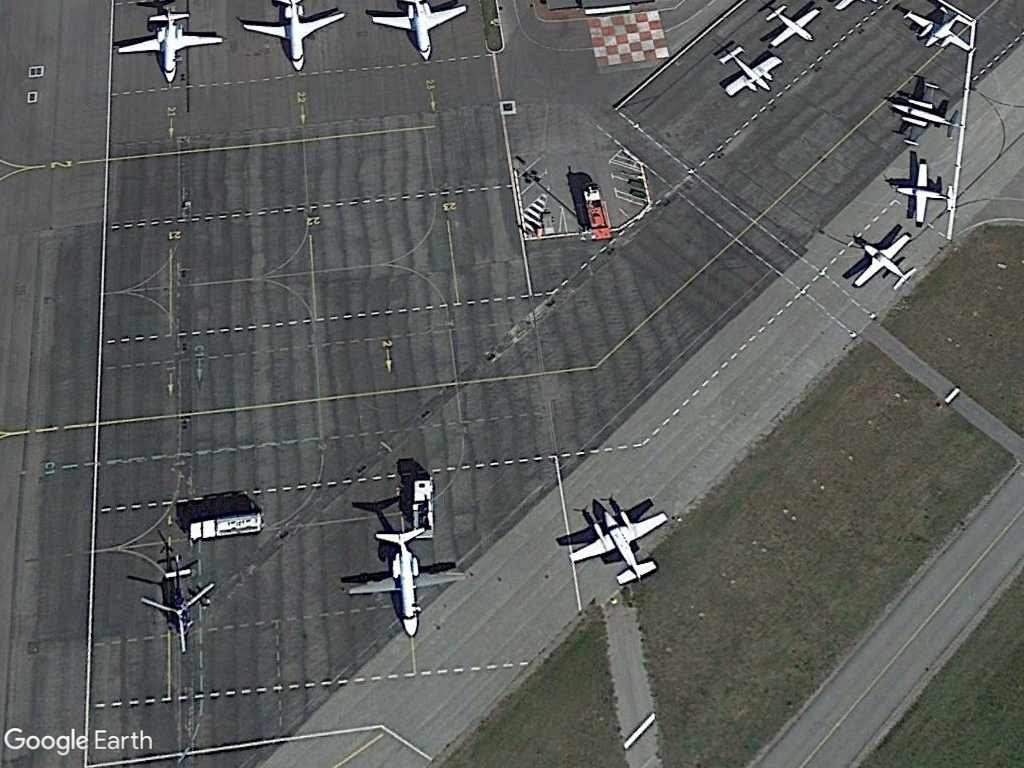chartered: (346, 526, 467, 642), (115, 3, 224, 85)
helicopter: (133, 544, 218, 657)
trainer: (561, 503, 672, 588), (885, 74, 965, 151), (884, 156, 957, 231), (848, 231, 920, 294), (900, 3, 979, 57), (710, 42, 784, 99), (762, 2, 823, 50)
